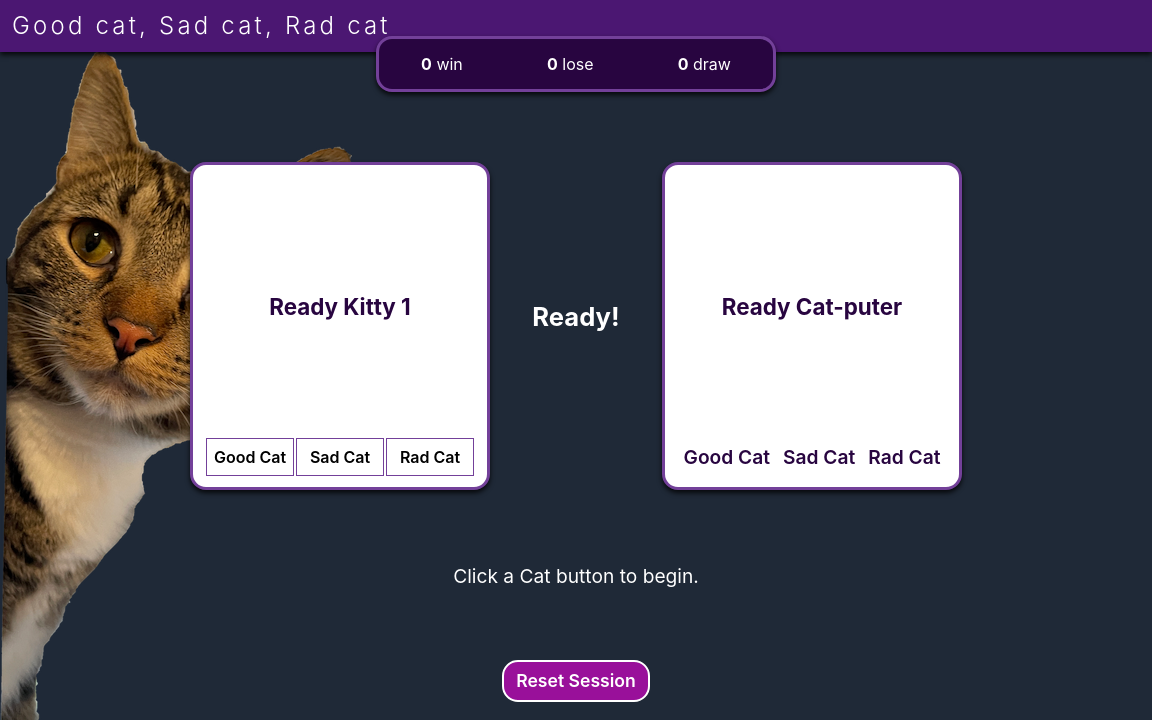
Test: Testing Good cat, Sad cat, Rad cat Game › Test Good cat action button
Click the button with test id "good".
click(250, 457)  # box [206,438,294,476]
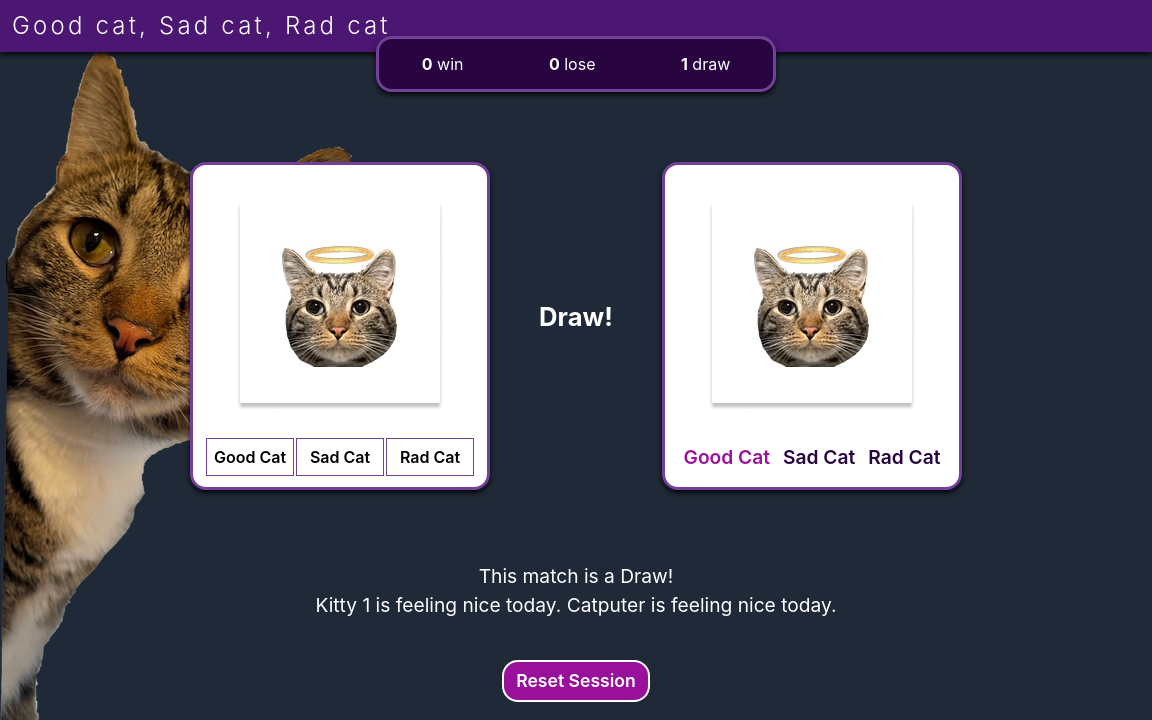
Expected: the text with test id "action-result" no longer shows "Ready"
Expected: the picture with test id "p1-good-img" is shown, [236,203,444,411]
Expected: the text "Kitty 1 is feeling nice today" is shown, [316,593,837,617]
